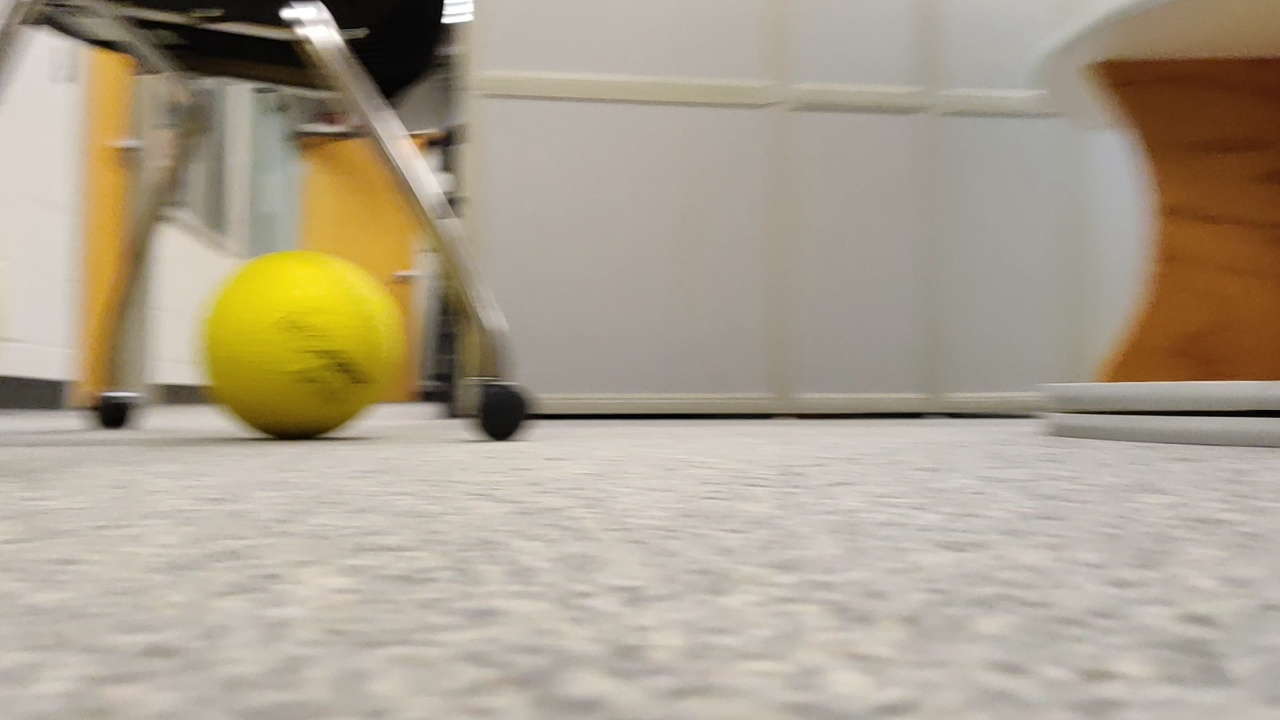Ball: (198, 251, 405, 445)
